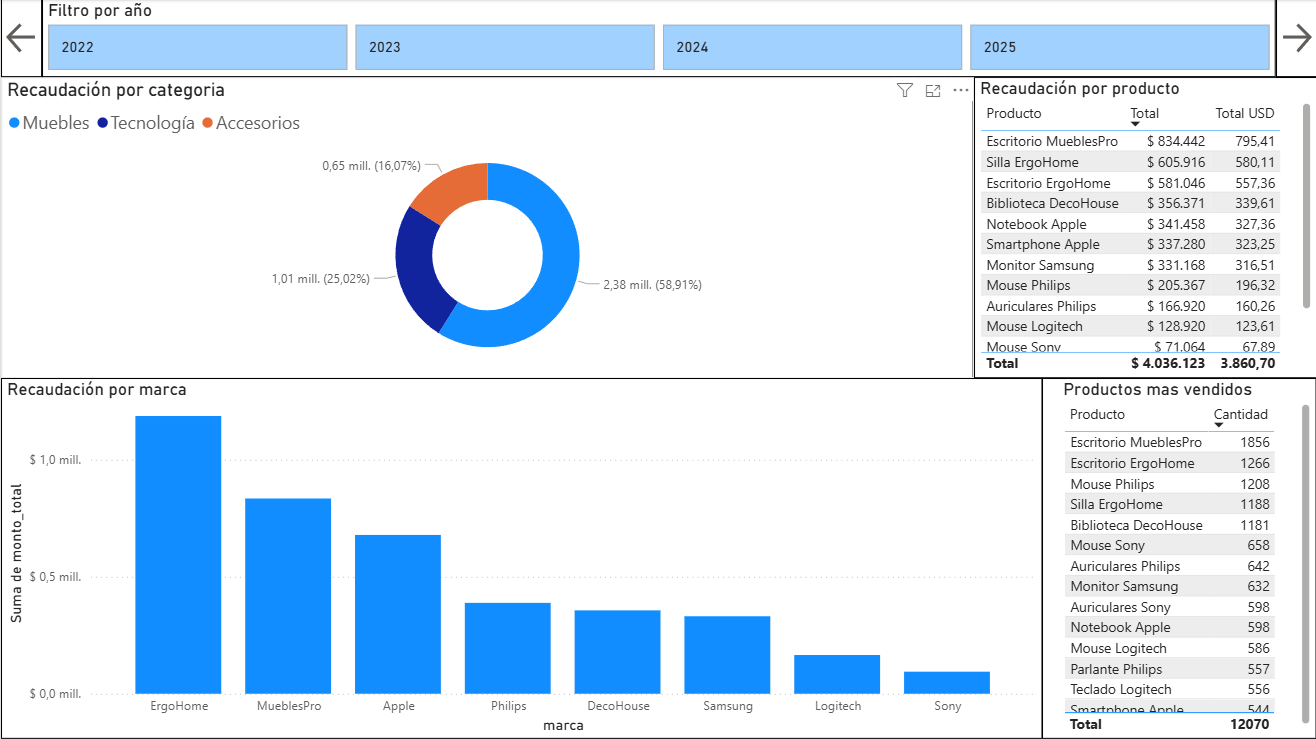

The page's visual inventory and layout, read from the dashboard file:
{"tool":"powerbi","page":{"name":"Productos","canvas":[1280,720],"ordinal":2},"visuals":[{"type":"donutChart","title":"Recaudación por categoria","fields":{"Category":["Dim_Productos.categoria"],"Y":["Sum(Hechos_FactVentas.monto_total)"]},"box":[0,75.9,946.4,292.8],"z":0},{"type":"tableEx","title":"Recaudación por producto","fields":{"Values":["Dim_Productos.nombre_producto","Sum(Hechos_FactVentas.monto_total)","Medidas.Total USD"]},"box":[946.4,75.9,333.6,292.8],"z":1000},{"type":"columnChart","title":"Recaudación por marca","fields":{"Category":["Dim_Productos.marca"],"Y":["Sum(Hechos_FactVentas.monto_total)"]},"box":[0,368.6,1012.5,351.1],"z":2000},{"type":"tableEx","title":"Productos mas vendidos","fields":{"Values":["Dim_Productos.nombre_producto","Sum(Hechos_FactVentas.cantidad)"]},"box":[1012.5,368.6,267.5,351.1],"z":3000},{"type":"advancedSlicerVisual","title":"Filtro por año","fields":{"Values":["Dim_Tiempo.anio"]},"box":[39.9,0,1200.2,75.9],"z":4000},{"type":"actionButton","box":[0,0,39.9,75.9],"z":5000},{"type":"actionButton","box":[1240.1,0,39.9,75.9],"z":6000}]}

Visuals, with their boxes in screenshot pixels (x1, y1, x2, y2), scaled from the page's 1280x720 canvas onto the 1316x739 screenshot:
"Recaudación por categoria" donutChart: {"left": 0, "top": 78, "right": 973, "bottom": 378}
"Recaudación por producto" tableEx: {"left": 973, "top": 78, "right": 1315, "bottom": 378}
"Recaudación por marca" columnChart: {"left": 0, "top": 378, "right": 1041, "bottom": 738}
"Productos mas vendidos" tableEx: {"left": 1041, "top": 378, "right": 1315, "bottom": 738}
"Filtro por año" advancedSlicerVisual: {"left": 41, "top": 0, "right": 1275, "bottom": 78}
actionButton: {"left": 0, "top": 0, "right": 41, "bottom": 78}
actionButton: {"left": 1275, "top": 0, "right": 1315, "bottom": 78}
